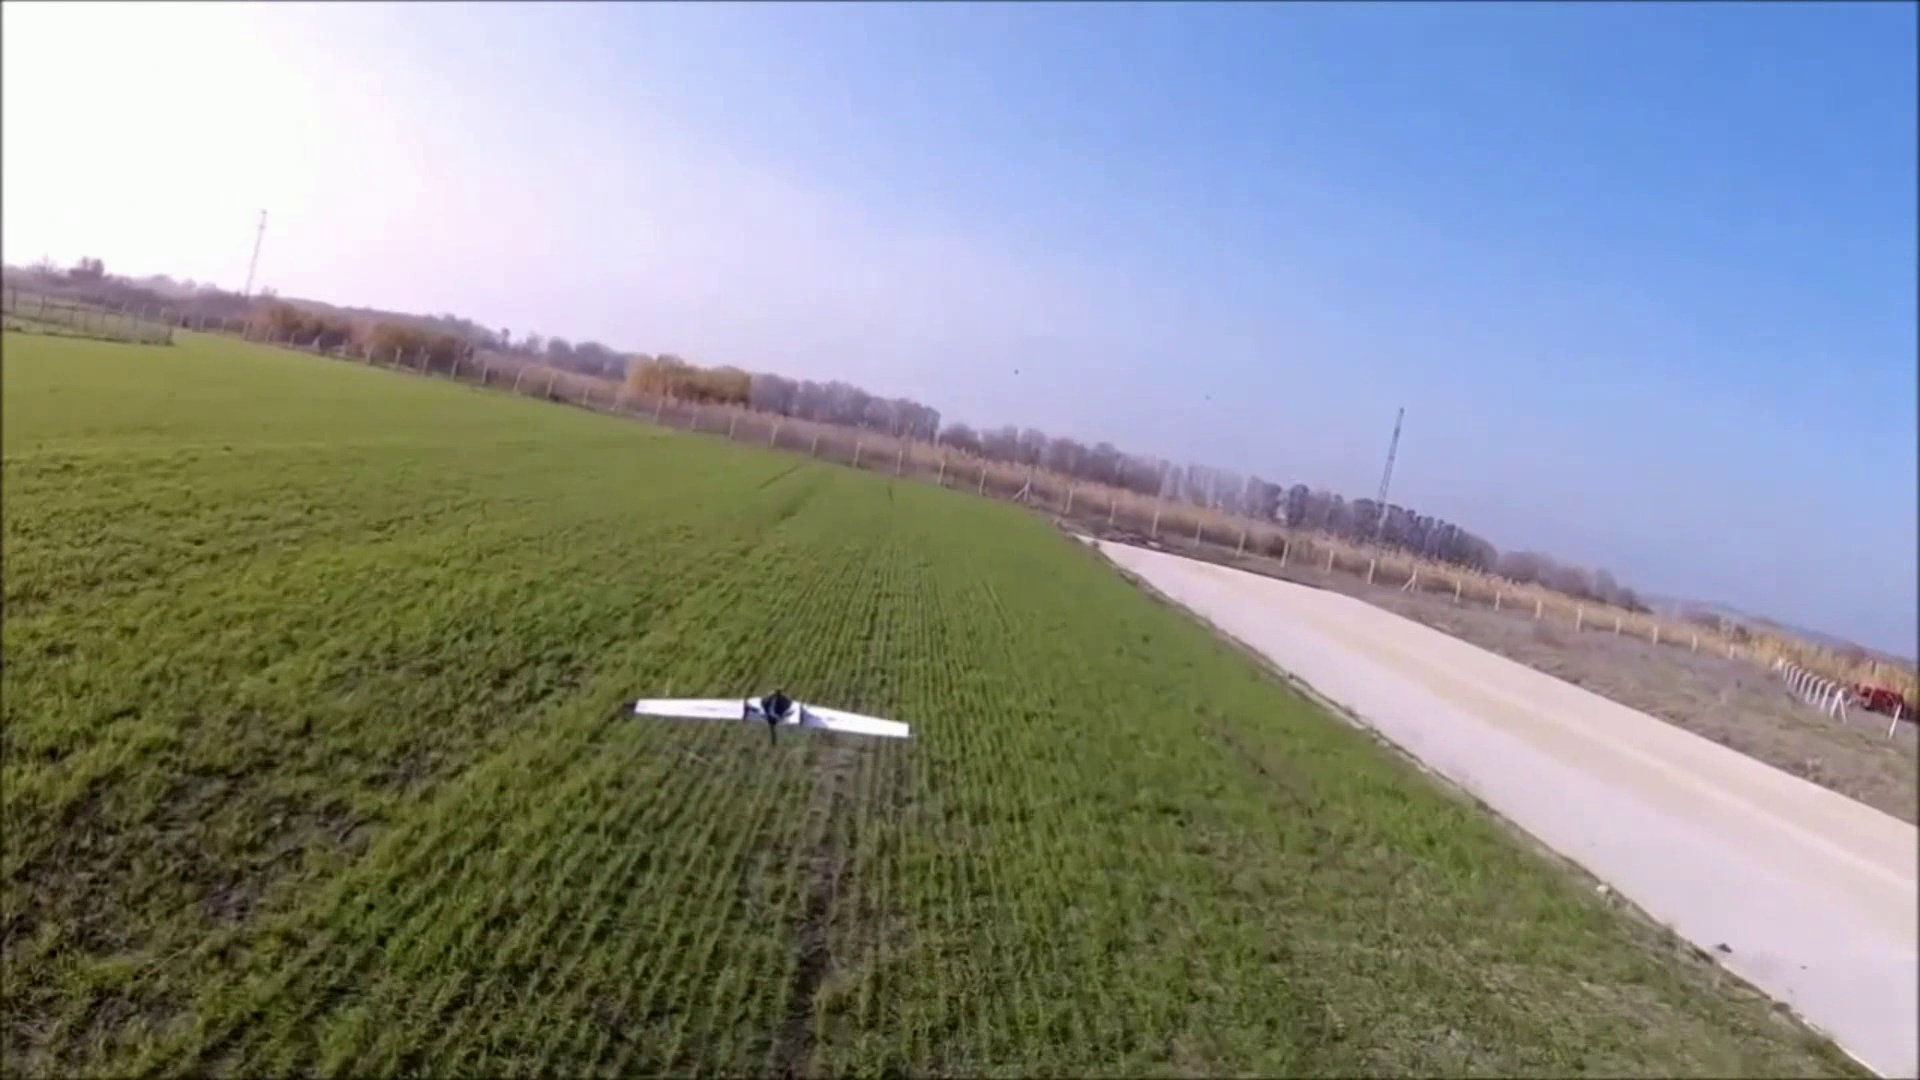airplane: (631, 691, 912, 744)
